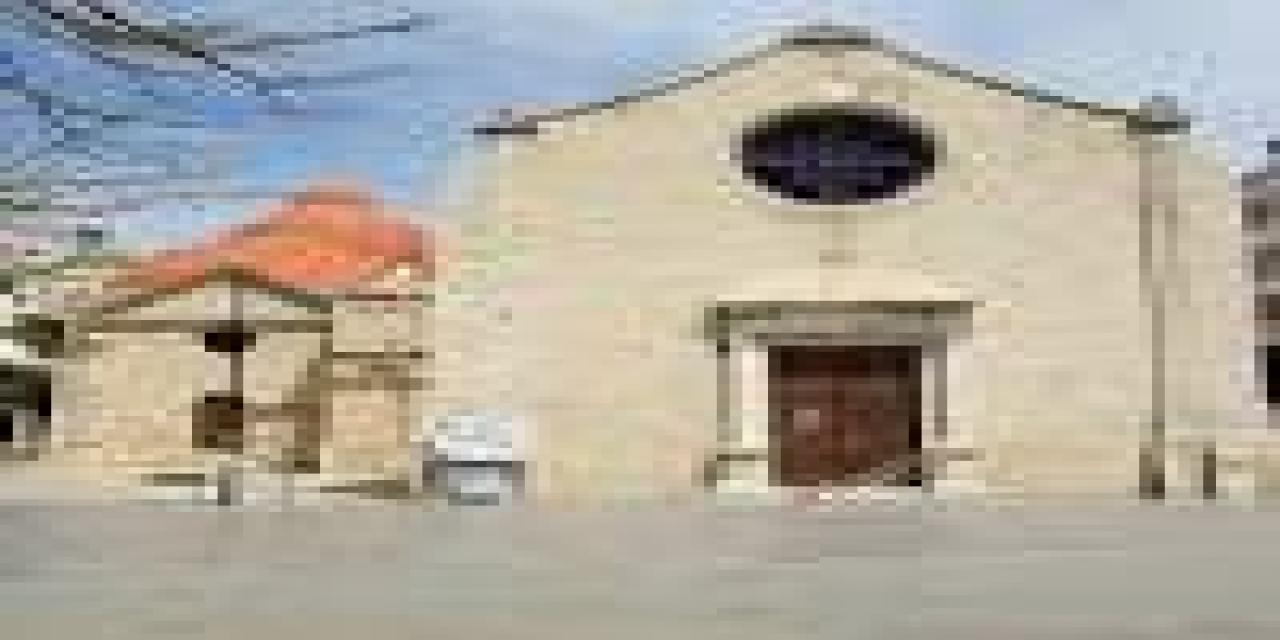Agia Aikaterini: (16, 27, 1279, 504)
